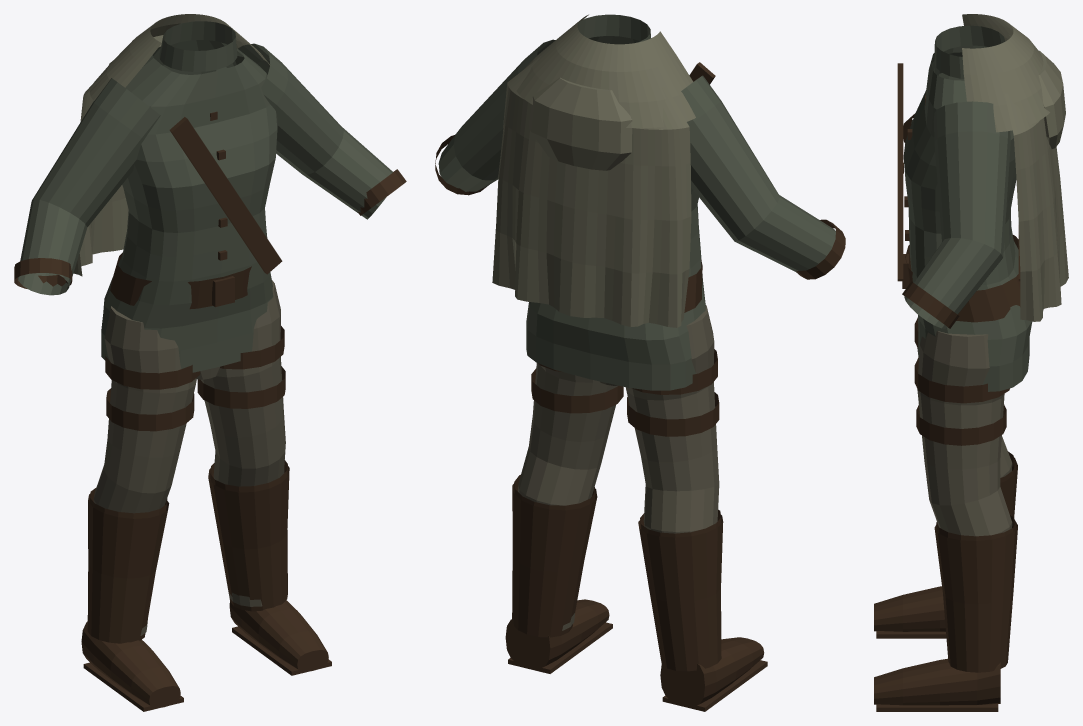
Rendered from tenue_garnison_lod0.glb.
The picture shows the model from 3 angles, left to right: view 1: azimuth 30°, elevation 25°; view 2: azimuth 150°, elevation 25°; view 3: azimuth 270°, elevation 25°; orthographic projection. The views are drawn at different scales.
Visible parts, largest first — view 1: spine_02, thigh_r, calf_r, calf_l, thigh_l, upperarm_r, upperarm_l, spine_03, lowerarm_r, foot_r, pelvis, foot_l (+2 smaller); view 2: spine_03, calf_r, calf_l, thigh_r, upperarm_r, spine_02, thigh_l, lowerarm_r, pelvis, foot_r, foot_l, upperarm_l (+2 smaller); view 3: spine_03, thigh_l, spine_02, calf_l, upperarm_l, foot_l, lowerarm_l, pelvis, foot_r, neck_01, calf_r.
Part boxes in pixels (x1,y1,x2,y2): spine_02: (101,40,282,350); thigh_r: (103,306,200,493); calf_r: (87,465,171,643); calf_l: (208,448,289,611); thigh_l: (197,280,285,468); upperarm_r: (32,78,160,226); upperarm_l: (216,43,343,174); spine_03: (73,14,270,276); lowerarm_r: (14,199,87,295); foot_r: (81,621,183,711); pelvis: (101,252,253,379); foot_l: (229,600,331,675); spine_03: (492,14,695,327); calf_r: (638,484,723,671); calf_l: (512,446,600,637); thigh_r: (625,305,719,491); upperarm_r: (681,75,779,241); spine_02: (526,36,715,364); thigh_l: (529,363,623,469); lowerarm_r: (734,195,845,279); pelvis: (526,258,702,390); foot_r: (660,637,767,711); foot_l: (505,599,612,673); upperarm_l: (453,39,555,180); spine_03: (962,14,1068,321); thigh_l: (914,331,1009,505); spine_02: (897,45,1032,366); calf_l: (929,487,1017,672); upperarm_l: (933,101,1010,257); foot_l: (874,658,1000,711); lowerarm_l: (902,237,1002,328); pelvis: (902,235,1029,391); foot_r: (874,586,946,638); neck_01: (934,25,1005,78); calf_r: (1000,436,1017,518).
Bounding box in the file's own units: 0.979 × 1.5 × 0.4191.
